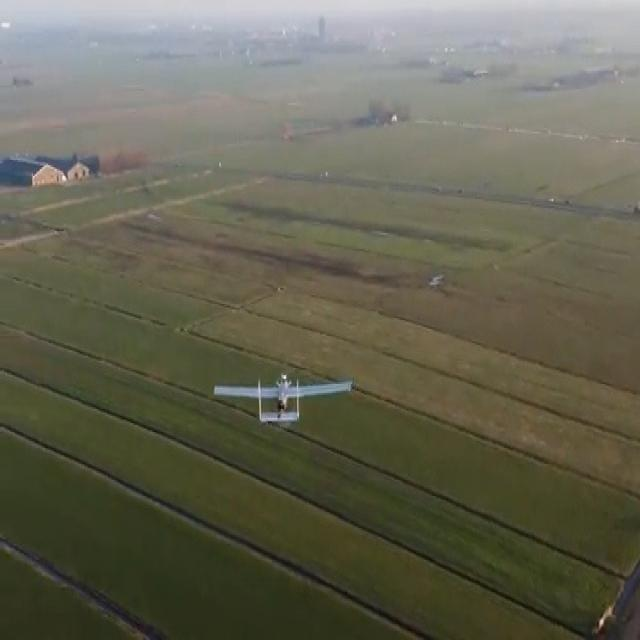drones: (208, 361, 362, 440)
